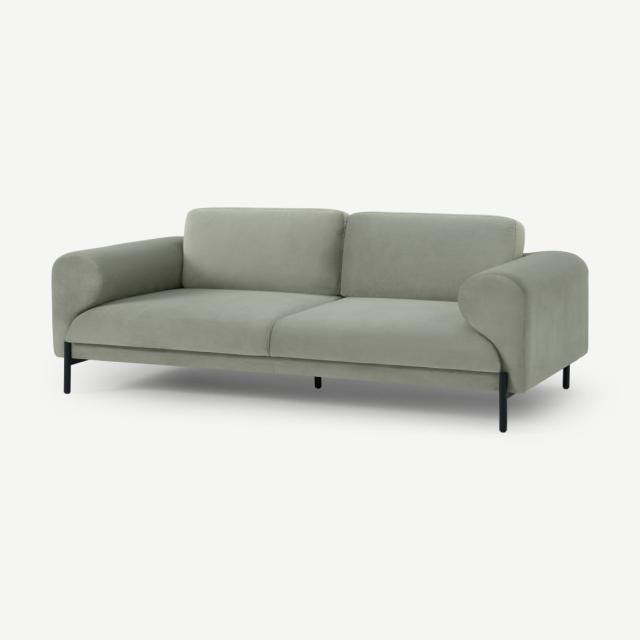Soffa: (49, 204, 594, 437)
